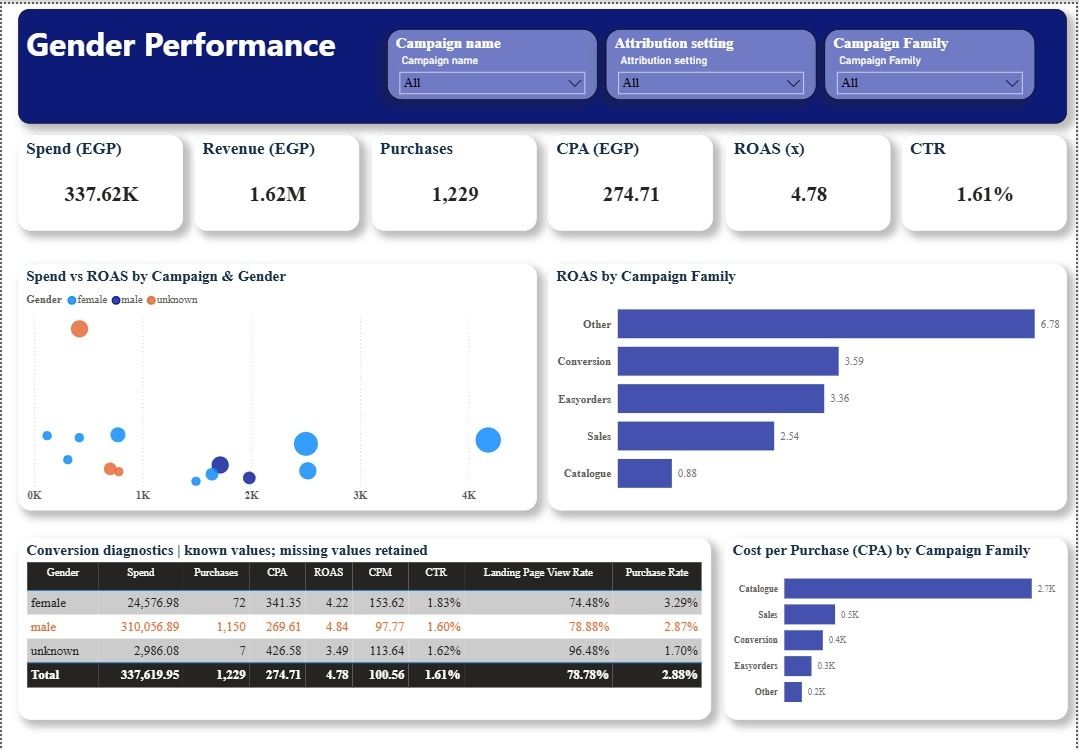

Layout of this report page (visuals, bound fields, positions):
{"tool":"powerbi","page":{"name":"Gender","canvas":[1440,1000],"ordinal":3},"visuals":[{"type":"textbox","box":[22.5,6.9,1405.8,153.9],"z":0,"group":"g1"},{"type":"group","id":"g1","title":"Group 5","box":[22.5,6.9,1405.8,153.9],"z":0},{"type":"group","id":"g2","title":"Group 3","box":[516.8,33.7,868.5,95.3],"z":1000,"group":"g1"},{"type":"slicer","title":"Campaign name","fields":{"Values":["Gender.Campaign name"]},"box":[516.8,33.7,282.8,95.3],"z":1000,"group":"g2"},{"type":"group","id":"g3","title":"Group 1","box":[22.5,176.4,1405.8,128],"z":1000},{"type":"slicer","title":"Attribution setting","fields":{"Values":["Gender.Attribution setting"]},"box":[809.7,33.7,282.8,95.3],"z":2000,"group":"g2"},{"type":"group","id":"g4","title":"Group 2","box":[22.5,349.3,1405.8,330.3],"z":2000},{"type":"slicer","title":"Campaign Family","fields":{"Values":["Gender.Campaign Family"]},"box":[1102.5,33.7,282.8,95.3],"z":3000,"group":"g2"},{"type":"group","id":"g5","title":"Group 4","box":[21.7,715.9,1406.6,244.1],"z":3000},{"type":"card","title":"Spend (EGP)","fields":{"Values":["Gender.Gender Spend"]},"box":[22.5,176.4,220.7,128],"z":4000,"group":"g3"},{"type":"card","title":"Revenue (EGP)","fields":{"Values":["Gender.Gender Revenue"]},"box":[259.5,176.4,220.7,128],"z":5000,"group":"g3"},{"type":"card","title":"Purchases","fields":{"Values":["Gender.Gender Purchases"]},"box":[496.5,176.4,220.7,128],"z":6000,"group":"g3"},{"type":"card","title":"CPA (EGP)","fields":{"Values":["Gender.Gender CPA"]},"box":[733.6,176.4,220.7,128],"z":7000,"group":"g3"},{"type":"card","title":"ROAS (x)","fields":{"Values":["Gender.Gender ROAS"]},"box":[970.6,176.4,220.7,128],"z":8000,"group":"g3"},{"type":"card","title":"CTR","fields":{"Values":["Gender.Gender CTR"]},"box":[1207.6,176.4,220.7,128],"z":9000,"group":"g3"},{"type":"scatterChart","title":"Spend vs ROAS by Campaign & Gender","fields":{"Category":["Gender.Campaign name"],"Series":["Gender.Gender"],"Size":["Gender.Gender Purchases"],"X":["Gender.Gender Spend"],"Y":["Gender.Gender ROAS"]},"box":[22.5,349.3,695.4,330.3],"z":10000,"group":"g4"},{"type":"barChart","title":"ROAS by Campaign Family","fields":{"Category":["Gender.Campaign Family"],"Y":["Gender.Gender ROAS"]},"box":[733.4,349.3,694.9,330.3],"z":11000,"group":"g4"},{"type":"tableEx","title":"Conversion diagnostics | known values; missing values retained","fields":{"Values":["Gender.Gender","Gender.Gender Spend","Gender.Gender Purchases","Gender.Gender CPA","Gender.Gender ROAS","Gender.Gender CPM","Gender.Gender CTR","Gender.Gender Landing Page View Rate","Gender.Gender Purchase Rate"]},"box":[21.7,716.2,928.5,243.8],"z":13000,"group":"g5"},{"type":"barChart","title":"Cost per Purchase (CPA) by Campaign Family","fields":{"Category":["Gender.Campaign Family"],"Y":["Gender.Gender CPA"]},"box":[968,715.9,460.3,243.8],"z":14000,"group":"g5"}]}

Visuals, with their boxes in screenshot pixels (x1, y1, x2, y2), scaled from the page's 1440x1000 canvas onto the 1079x750 screenshot:
textbox: (x1=17, y1=5, x2=1070, y2=121)
"Group 5" group: (x1=17, y1=5, x2=1070, y2=121)
"Group 3" group: (x1=387, y1=25, x2=1038, y2=97)
"Campaign name" slicer: (x1=387, y1=25, x2=599, y2=97)
"Group 1" group: (x1=17, y1=132, x2=1070, y2=228)
"Attribution setting" slicer: (x1=607, y1=25, x2=819, y2=97)
"Group 2" group: (x1=17, y1=262, x2=1070, y2=510)
"Campaign Family" slicer: (x1=826, y1=25, x2=1038, y2=97)
"Group 4" group: (x1=16, y1=537, x2=1070, y2=720)
"Spend (EGP)" card: (x1=17, y1=132, x2=182, y2=228)
"Revenue (EGP)" card: (x1=194, y1=132, x2=360, y2=228)
"Purchases" card: (x1=372, y1=132, x2=537, y2=228)
"CPA (EGP)" card: (x1=550, y1=132, x2=715, y2=228)
"ROAS (x)" card: (x1=727, y1=132, x2=893, y2=228)
"CTR" card: (x1=905, y1=132, x2=1070, y2=228)
"Spend vs ROAS by Campaign & Gender" scatterChart: (x1=17, y1=262, x2=538, y2=510)
"ROAS by Campaign Family" barChart: (x1=550, y1=262, x2=1070, y2=510)
"Conversion diagnostics | known values; missing values retained" tableEx: (x1=16, y1=537, x2=712, y2=720)
"Cost per Purchase (CPA) by Campaign Family" barChart: (x1=725, y1=537, x2=1070, y2=720)
